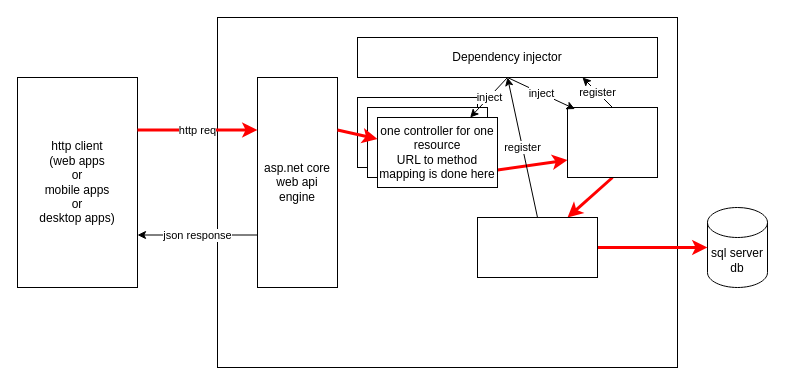
The diagram is 785 pixels wide and 385 high, and some of its shapes have lost their labels. Here are the shapes that lost their labels. From the top down, the centre of each, then its label:
At point 612,142: "service classes maintian business logic".
At point 537,247: "entity framework (ORM) modules".
